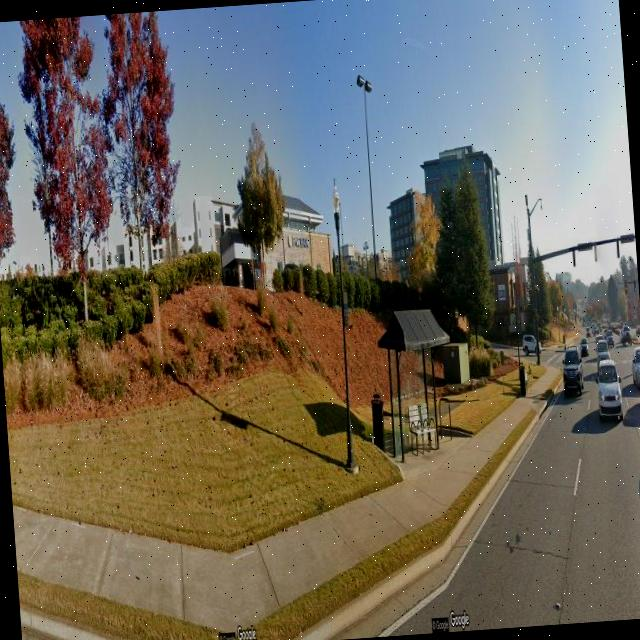seating: (407, 400, 438, 457)
shelter: (375, 304, 459, 466)
trash_can: (370, 392, 387, 454), (517, 360, 527, 398)
